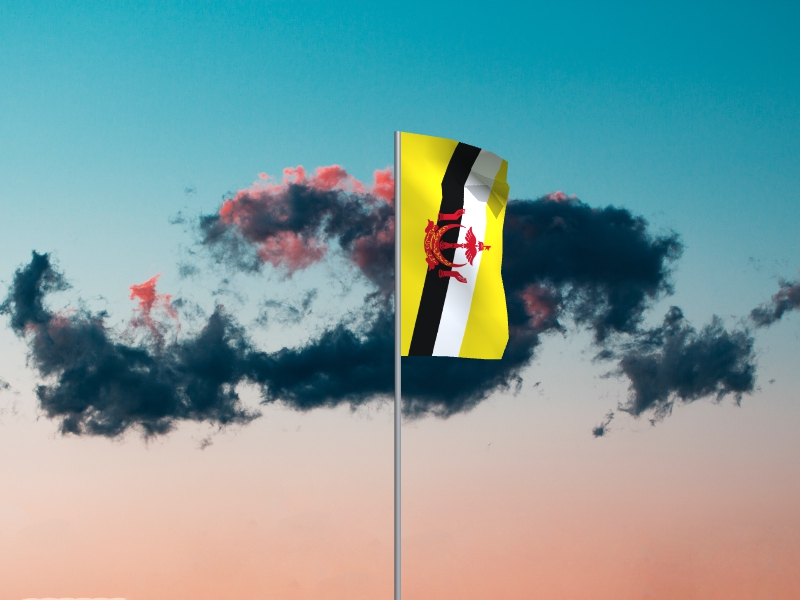bn: (401, 133, 512, 362)
